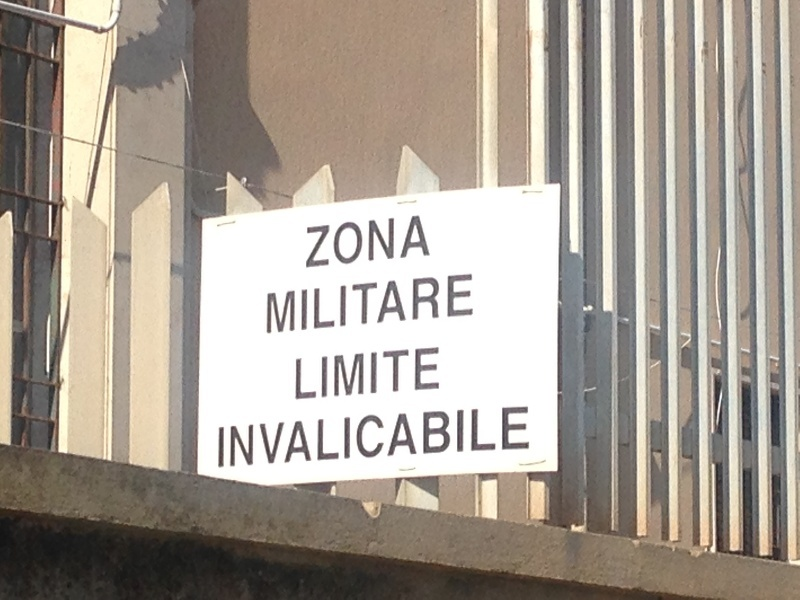text: (273, 272, 288, 335), (289, 272, 304, 335), (305, 272, 320, 335), (321, 272, 336, 335), (337, 272, 352, 335), (353, 272, 368, 335), (369, 272, 384, 335), (385, 272, 400, 335), (401, 272, 416, 335), (417, 272, 432, 335), (433, 272, 448, 335), (449, 272, 464, 335), (225, 408, 240, 469), (241, 408, 256, 469), (257, 408, 272, 469), (273, 408, 288, 469), (289, 408, 304, 469), (305, 408, 320, 469), (321, 408, 336, 469), (337, 408, 352, 469), (353, 408, 368, 469), (369, 408, 384, 469), (385, 408, 400, 469), (401, 408, 416, 469), (417, 408, 432, 469), (433, 408, 448, 469), (449, 408, 464, 469), (465, 408, 480, 469), (481, 408, 496, 469), (497, 408, 512, 469), (513, 408, 528, 469), (321, 215, 336, 270), (337, 215, 352, 270), (353, 215, 368, 270), (369, 215, 384, 270), (385, 215, 400, 270), (401, 215, 416, 270), (417, 215, 432, 270), (305, 348, 320, 403), (321, 348, 336, 403), (337, 348, 352, 403), (353, 348, 368, 403), (369, 348, 384, 403), (385, 348, 400, 403), (401, 348, 416, 403), (417, 348, 432, 403), (307, 215, 320, 270), (465, 272, 476, 335), (297, 348, 304, 403), (433, 348, 439, 403), (267, 272, 272, 335), (219, 408, 224, 469), (529, 408, 530, 469)
